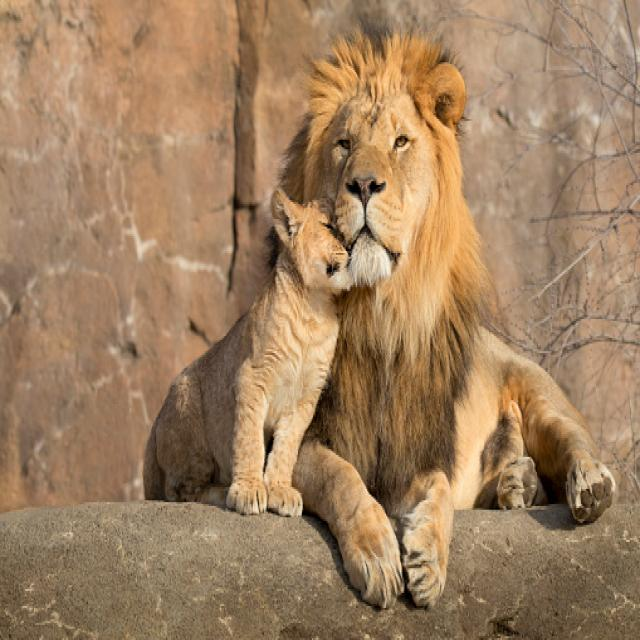Lion: (289, 26, 615, 607)
